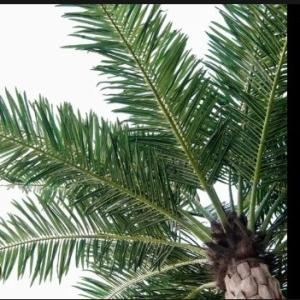palm tree: (0, 3, 287, 299)
